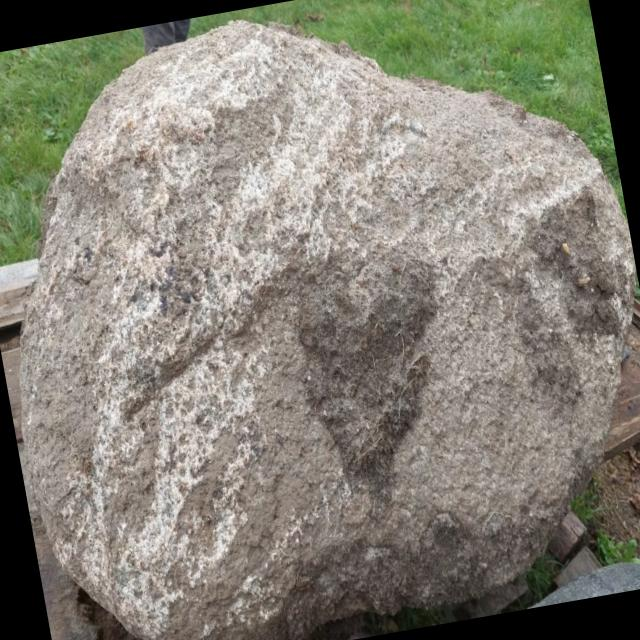grass: (188, 0, 626, 214), (0, 27, 142, 263)
stone: (19, 20, 634, 640)
